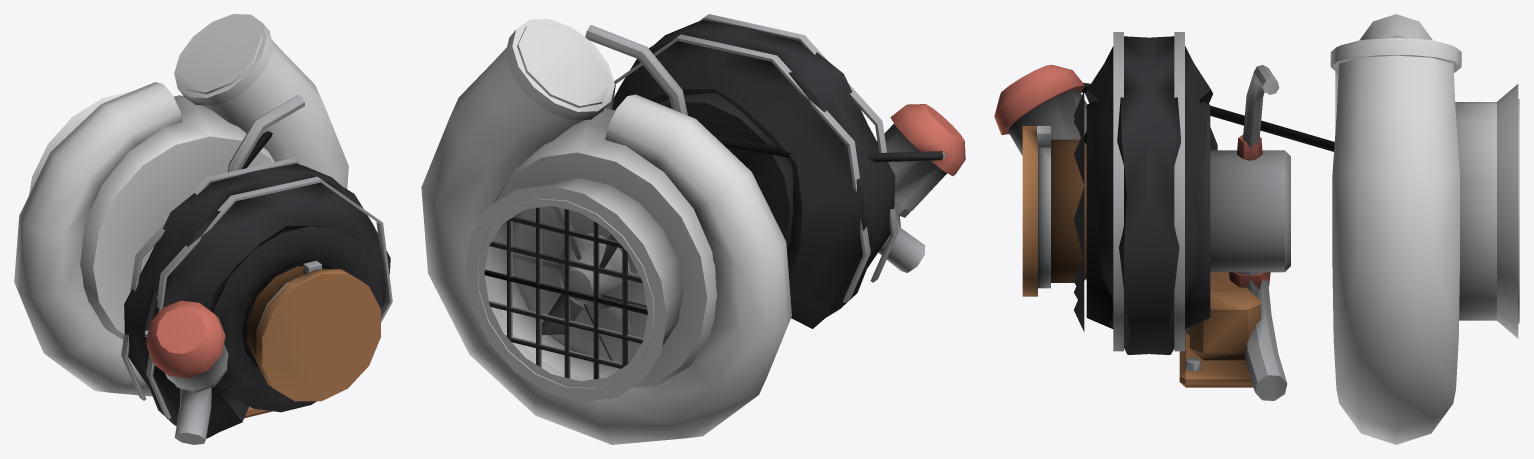
File: turbo_big.glb
3 renders of one model, left to right at view 1: azimuth 30°, elevation 25°; view 2: azimuth 150°, elevation 25°; view 3: azimuth 270°, elevation 25°, orthographic. The views are drawn at different scales.
Parts seen in each view (by area): view 1: PART; view 2: PART; view 3: PART.
Boxes of the visible parts, bbox=[...] form: PART: bbox=[14, 14, 392, 444]; PART: bbox=[421, 14, 965, 444]; PART: bbox=[994, 14, 1519, 444].
Size of the model in its own units: 0.3089 by 0.3121 by 0.3446.
